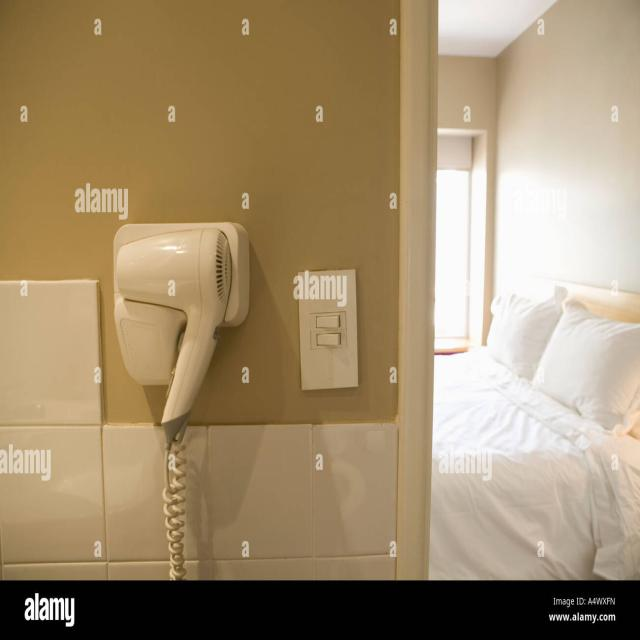dryer: (96, 200, 272, 549), (108, 219, 258, 443)
